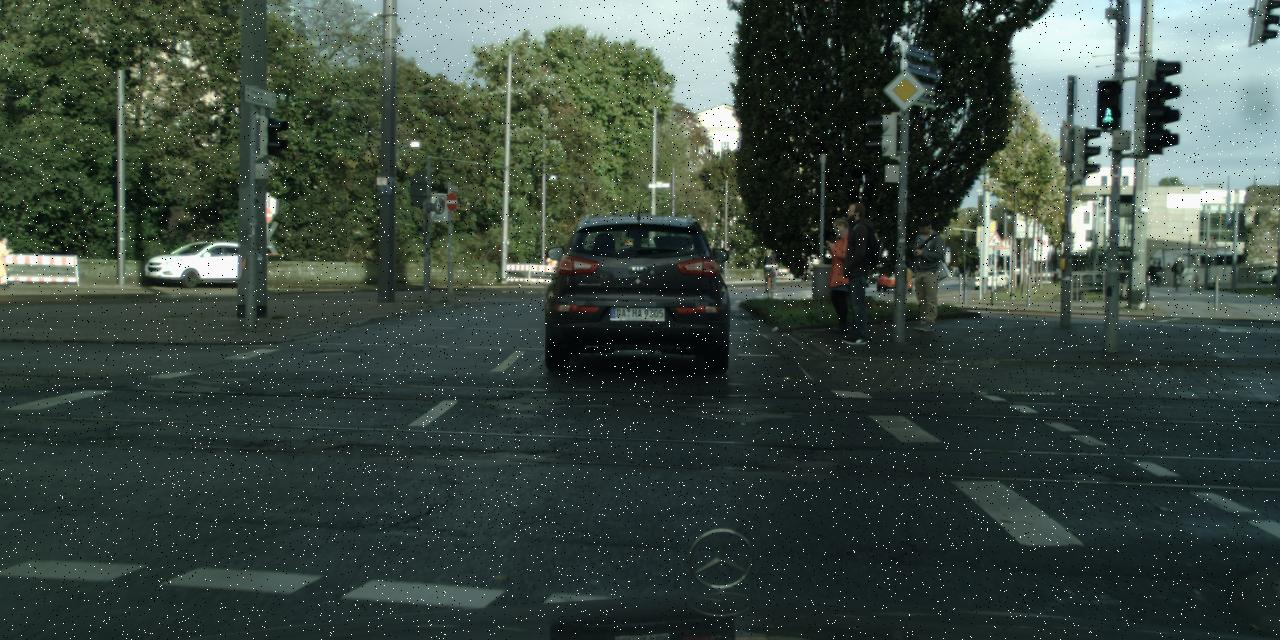ped: (826, 200, 886, 344), (816, 217, 864, 334), (901, 215, 948, 330), (762, 248, 778, 289), (0, 237, 11, 285), (714, 256, 725, 284), (1172, 256, 1182, 284), (1147, 260, 1157, 284), (1118, 262, 1126, 282), (1154, 261, 1162, 281), (949, 266, 960, 276), (974, 264, 980, 278), (997, 265, 1002, 279)
